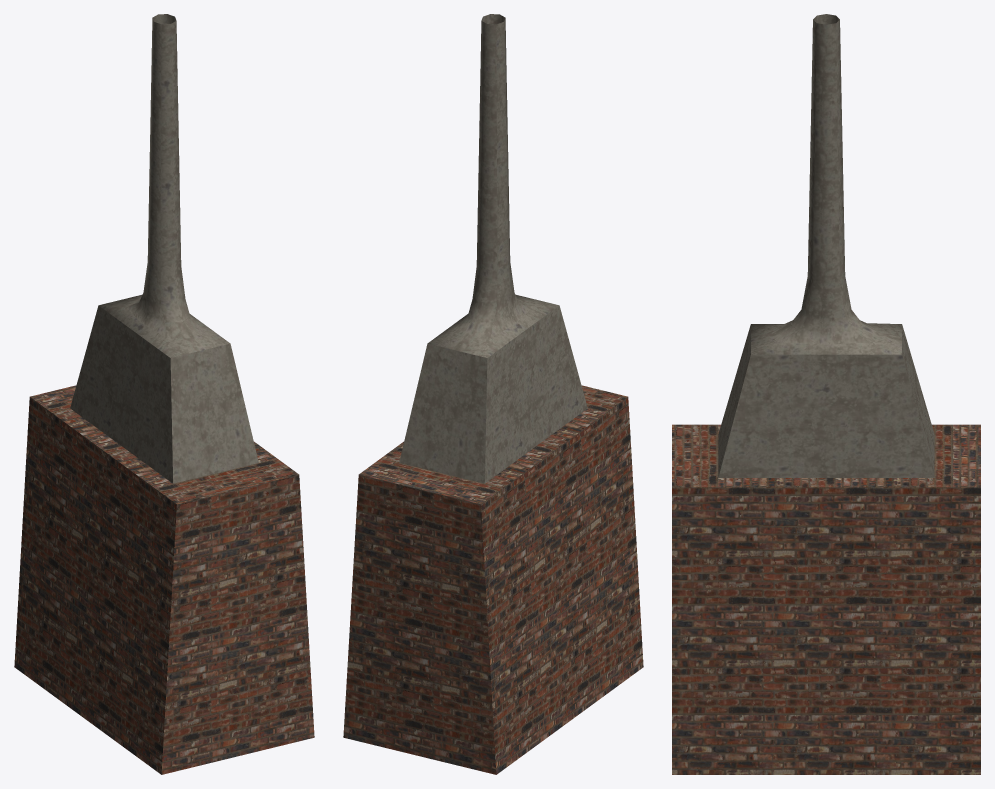
File: refinery_warmer.glb
3 renders of one model, left to right at view 1: azimuth 30°, elevation 25°; view 2: azimuth 150°, elevation 25°; view 3: azimuth 270°, elevation 25°, orthographic. The views are drawn at different scales.
Visible parts, largest first — view 1: Prop.refinery_warmer; view 2: Prop.refinery_warmer; view 3: Prop.refinery_warmer.
Boxes of the visible parts, x1=… form: Prop.refinery_warmer: x1=14, y1=14, x2=314, y2=774; Prop.refinery_warmer: x1=343, y1=14, x2=643, y2=774; Prop.refinery_warmer: x1=672, y1=14, x2=980, y2=774.
Size of the model in its own units: 2.88 by 12.29 by 4.8.
Materials: 2 (2 with a texture image).
